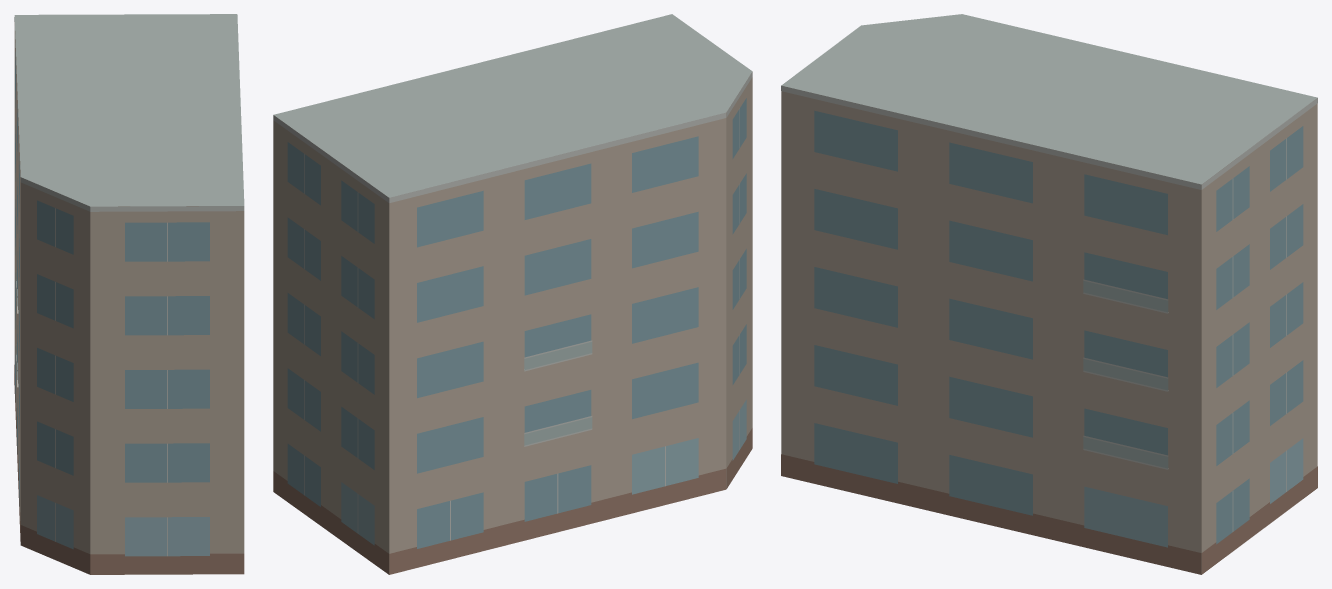
The model's file is survey-upis-32957778.glb.
3 views of the same model, side by side, from view 1: azimuth 30°, elevation 25°; view 2: azimuth 150°, elevation 25°; view 3: azimuth 270°, elevation 25° (orthographic). The views are drawn at different scales.
Visible parts, largest first — view 1: survey-upis-32957778.tmp; view 2: survey-upis-32957778.tmp; view 3: survey-upis-32957778.tmp.
Part boxes in pixels (bbox=[...]): survey-upis-32957778.tmp: bbox=[14, 14, 244, 574]; survey-upis-32957778.tmp: bbox=[273, 14, 752, 574]; survey-upis-32957778.tmp: bbox=[781, 14, 1317, 574].
Size of the model in its own units: 15.99 by 17.06 by 21.26.
